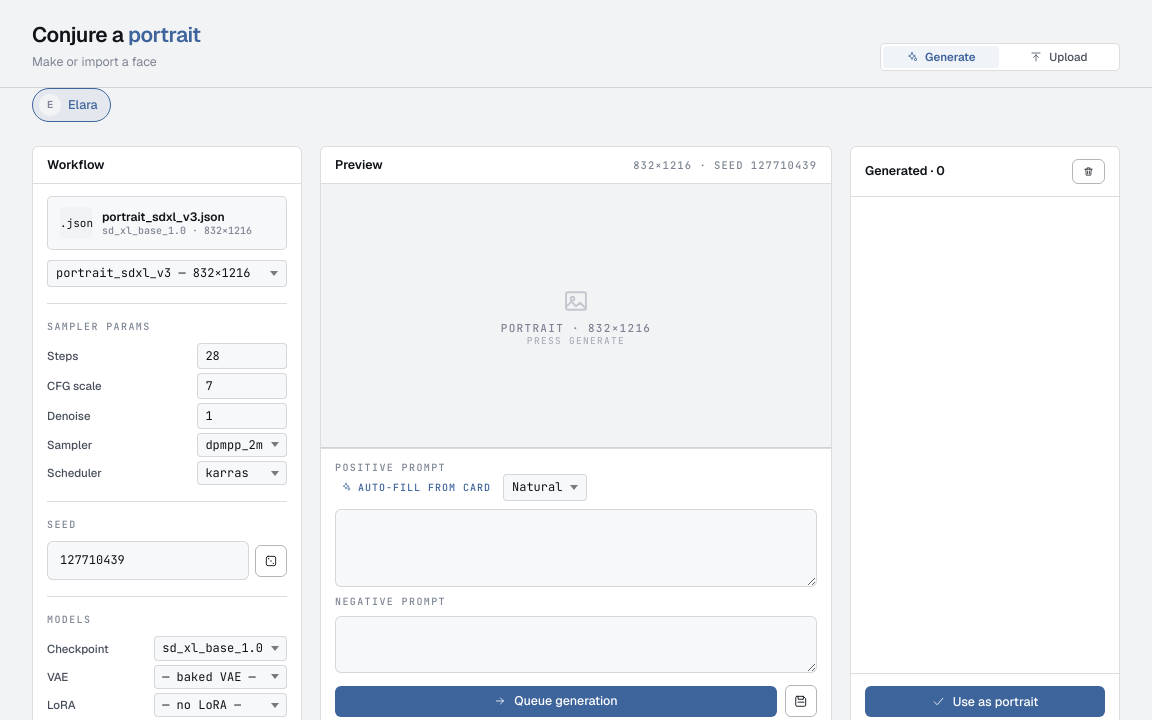
Test case: PortraitScreen › shows selected file card
Step 1. Click the button "Upload" → (1059, 57), box [1001,46,1117,68]
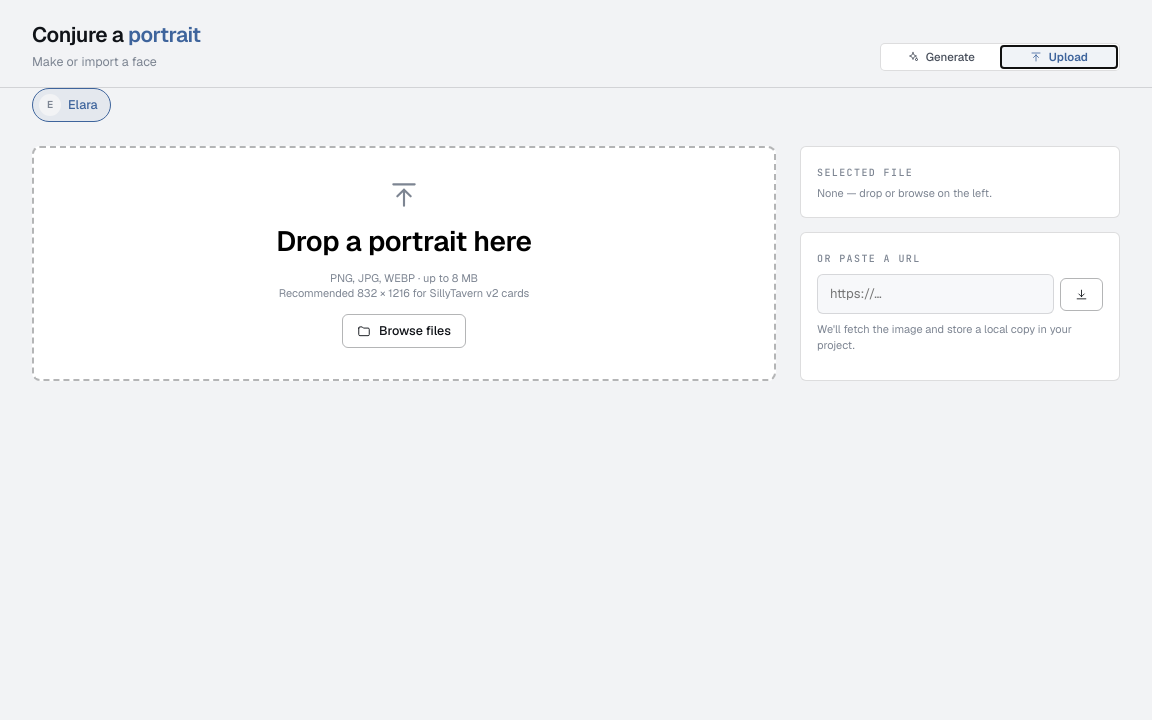
Check: the text "Selected file" is shown, box [817,166,913,179]
Check: the text "None — drop or browse on the left." is shown, box [817,186,992,200]
